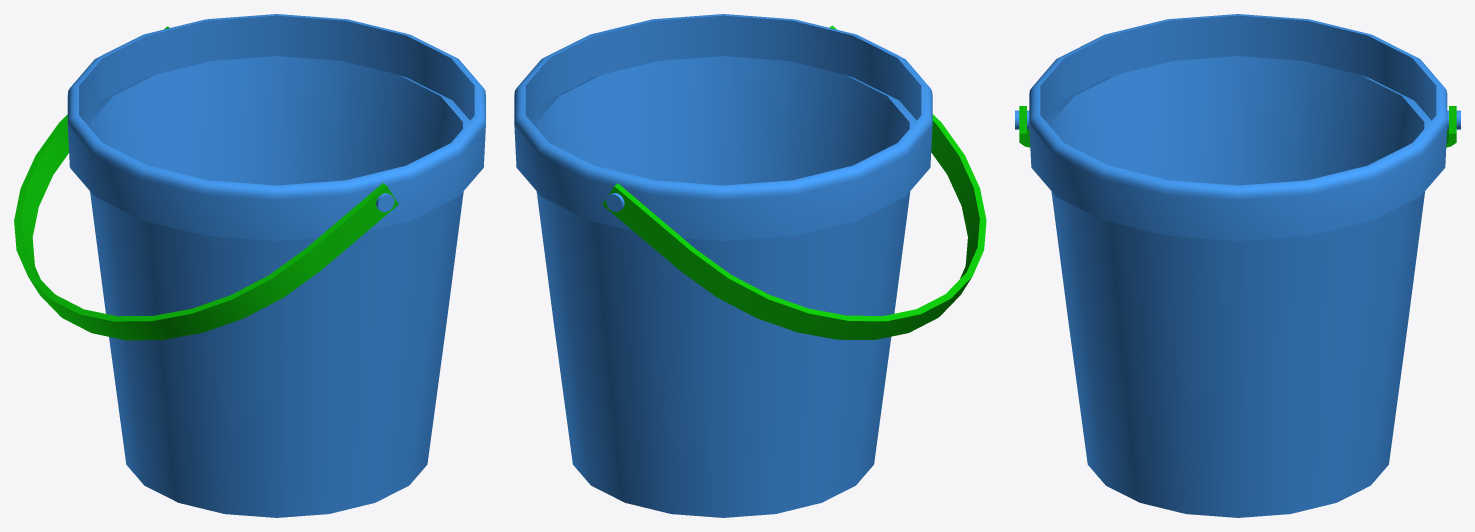
Rendered from Bucket.FBX.
3 views of the same model, side by side, from view 1: azimuth 30°, elevation 25°; view 2: azimuth 150°, elevation 25°; view 3: azimuth 270°, elevation 25° (orthographic).
Parts seen in each view (by area): view 1: bucket; view 2: bucket; view 3: bucket.
Boxes of the visible parts, x1,y1,x2,y2 form: bucket: [14, 14, 485, 517]; bucket: [514, 14, 986, 517]; bucket: [1015, 14, 1460, 517].
Size of the model in its own units: 23.58 by 19.76 by 22.15.
